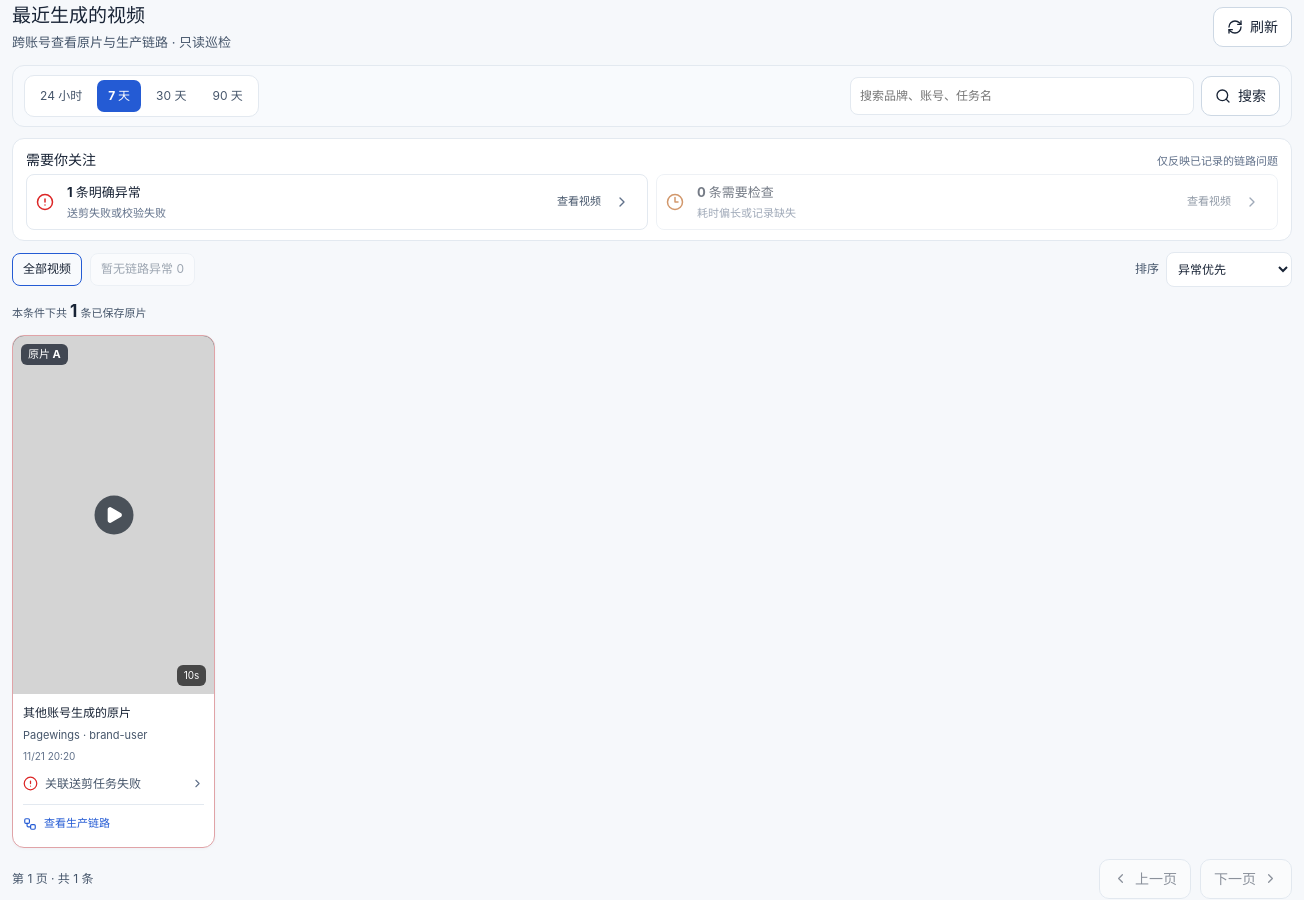
Test: shows an owner-labelled video and a review control without any editing action
Later steps or results of the test are not shown.
Click the heading "关联送剪任务失败": (114, 784) [23,776,204,792]
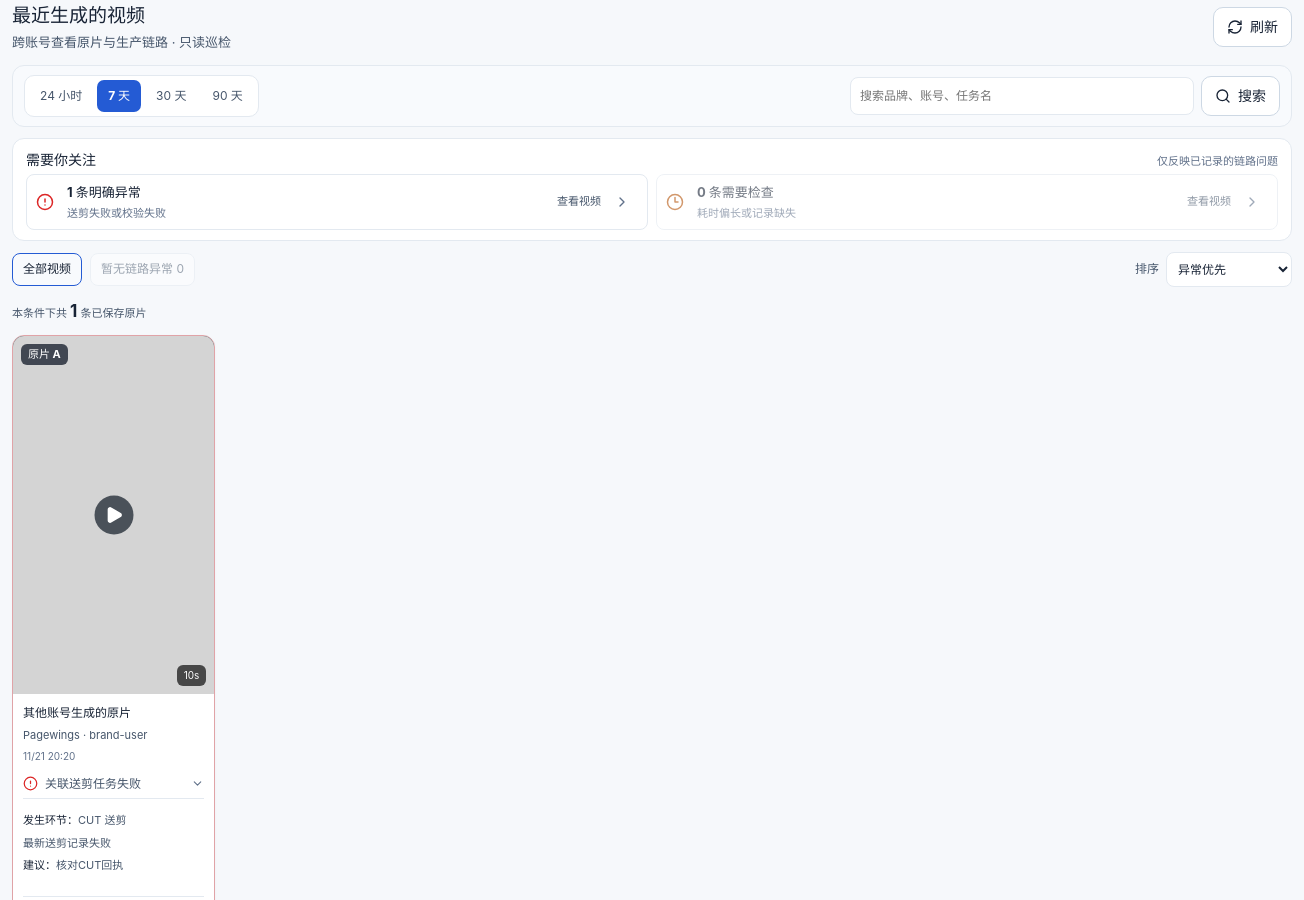
expect the button with class "admin-video-attention-row" showing "1 条明确异常 送剪失败或校验失败 查看视频" is shown: met, box [26,174,648,230]
expect the text "发生环节：CUT 送剪" is shown: met, box [23,813,126,827]
